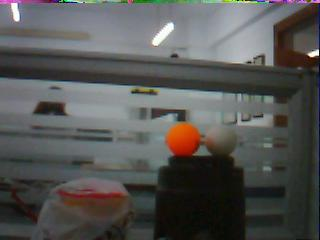oball: (167, 124, 201, 156)
